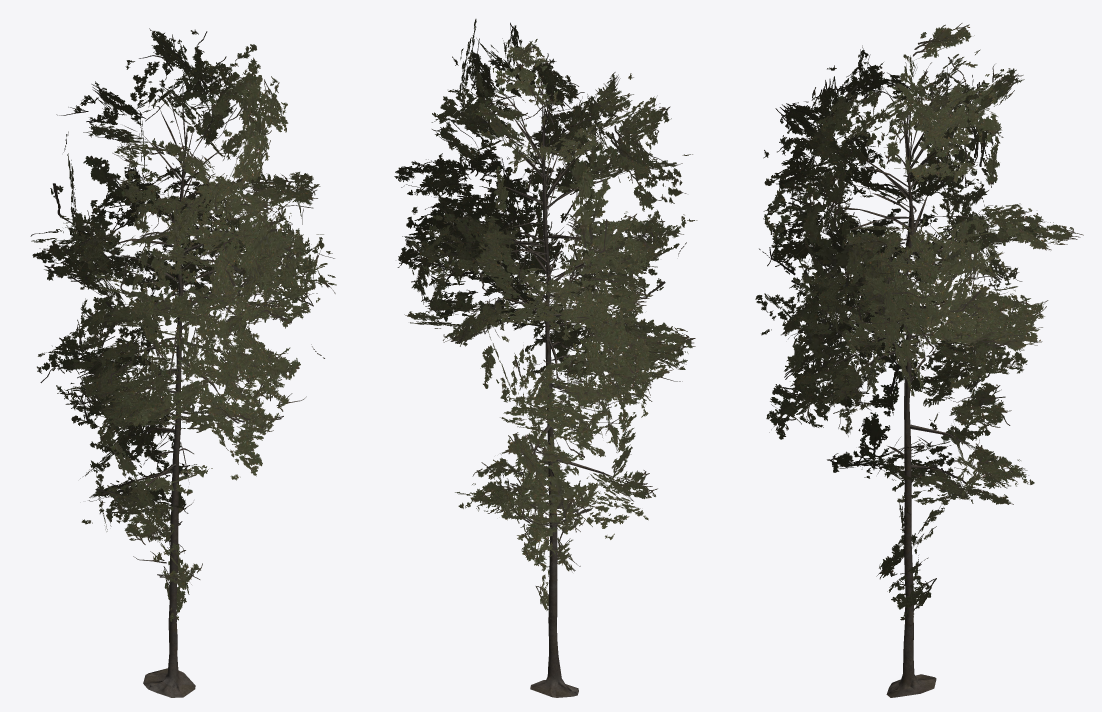
3 views of the same model, side by side, from view 1: azimuth 30°, elevation 25°; view 2: azimuth 150°, elevation 25°; view 3: azimuth 270°, elevation 25° (orthographic). The views are drawn at different scales.
Visible parts, largest first — view 1: pine_tree_01__c_lod2; view 2: pine_tree_01__c_lod2; view 3: pine_tree_01__c_lod2.
Part boxes in pixels (x1,y1,x2,y2): pine_tree_01__c_lod2: (30,28,336,697); pine_tree_01__c_lod2: (394,19,697,697); pine_tree_01__c_lod2: (755,23,1083,697).
Bounding box in the file's own units: 7.89 × 17.55 × 8.25.
2 materials, 2 textured.
